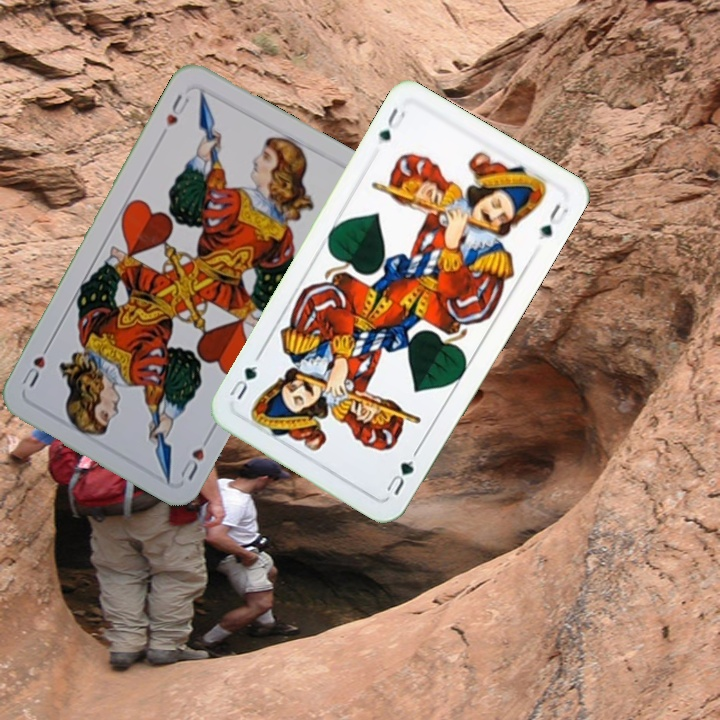GU: (381, 456, 417, 498), (374, 103, 408, 144)
HU: (176, 429, 214, 484), (162, 90, 195, 130)
